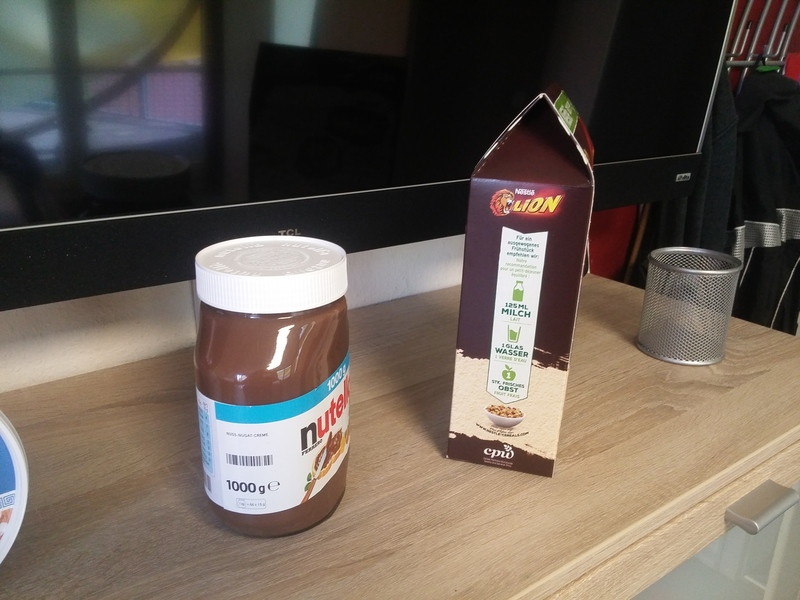cereals: (448, 80, 597, 480)
nutella: (196, 235, 352, 538)
